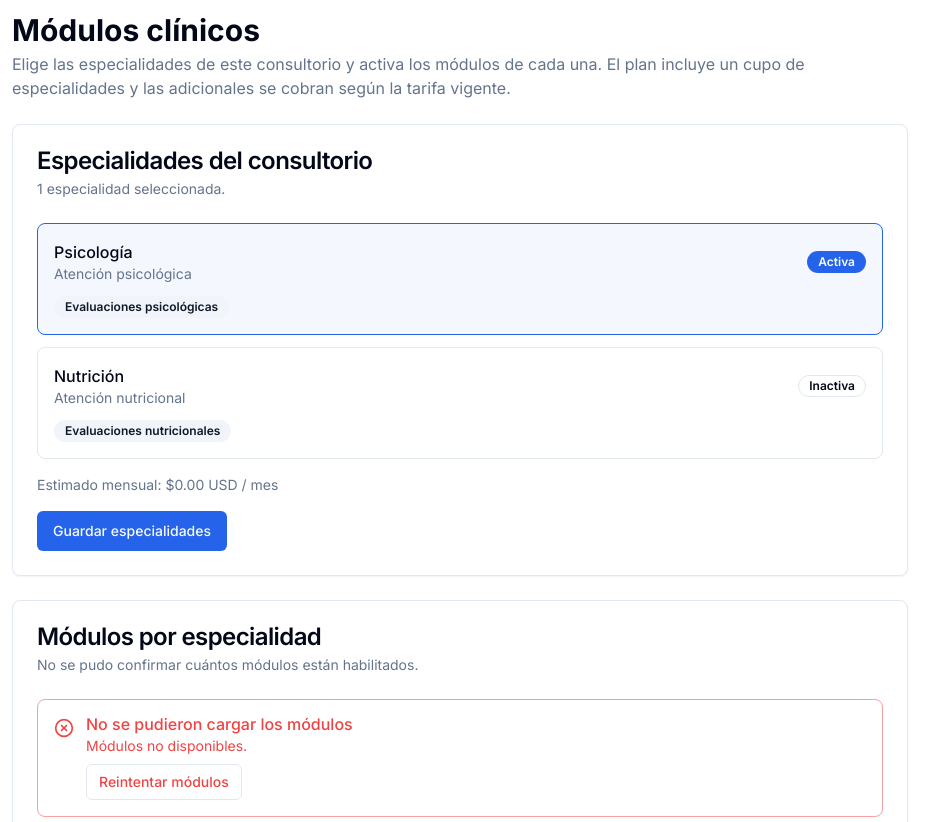
Test: SpecialtyManager › keeps module switches unknown after a load error until retry returns server state
Expected: the message shows "Módulos no disponibles.", [86,737,247,754]
Click the button "Reintentar módulos". click: click(164, 782)
box: [86,764,242,800]
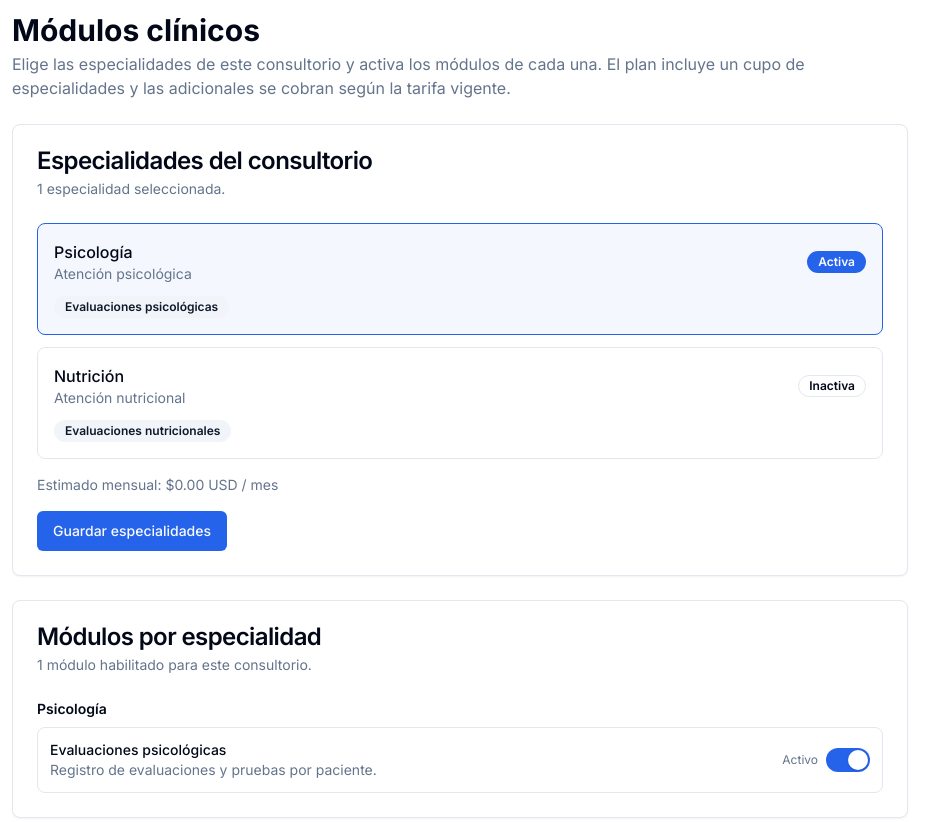
Expected: the checkbox labelled "Evaluaciones psicológicas" is checked, [37,727,883,793]
